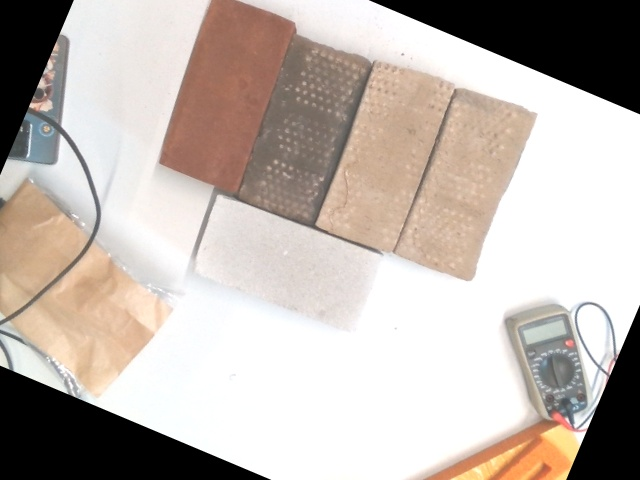brick: (394, 86, 535, 284), (190, 195, 383, 333), (315, 59, 450, 254), (242, 35, 365, 223)
